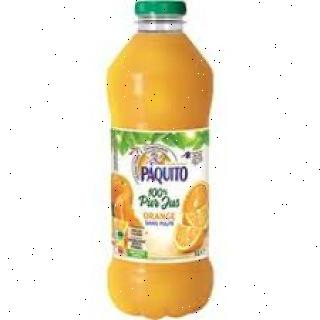Plastic-bottle: (90, 1, 225, 320)
